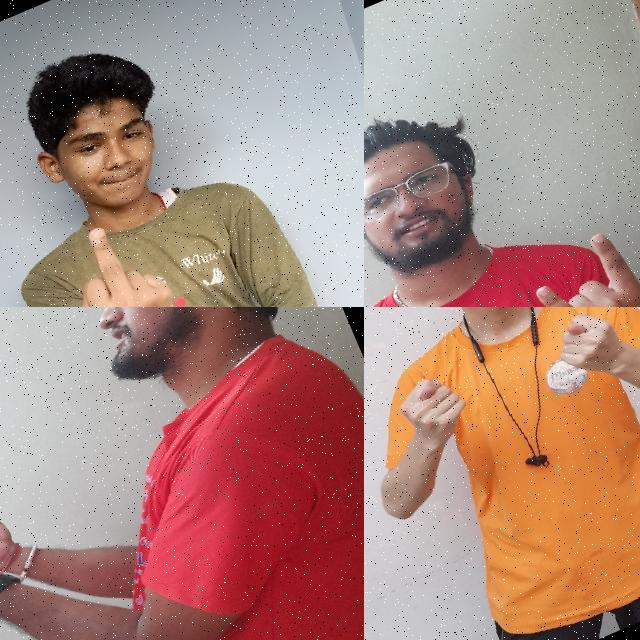Corna: (512, 218, 640, 307)
Dulya: (382, 359, 488, 467), (536, 307, 640, 401)
Middle Finger: (42, 202, 196, 307), (0, 471, 40, 589)
